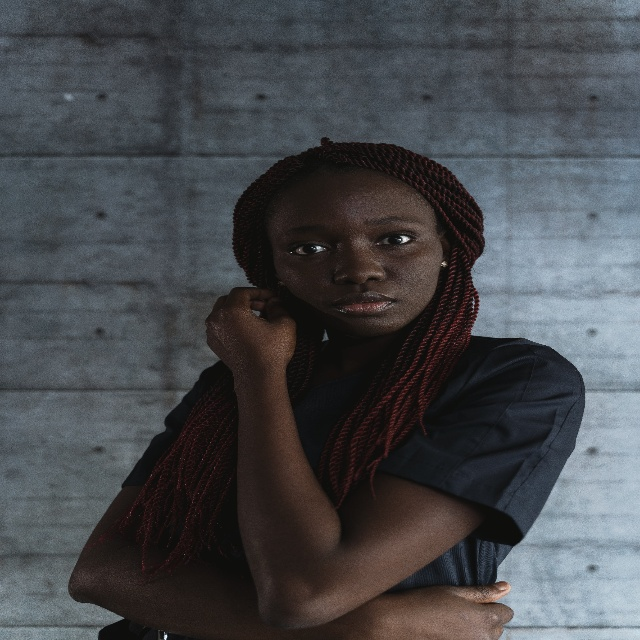Sin_guantes: (389, 574, 513, 640), (206, 284, 298, 370)
